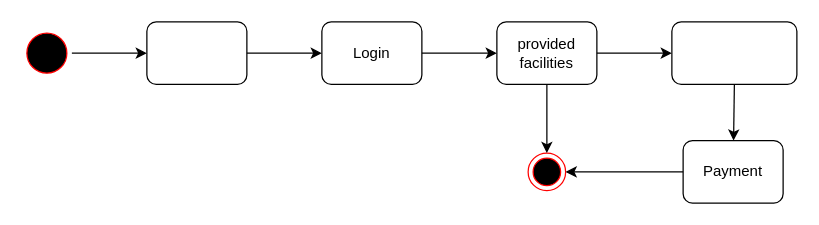
The diagram is 819 pixels wide and 225 high, and some of its shapes have lost their labels. Here are the shapes that lost their labels. From the top down, the centre of each, then its label:
At [196,52]: "Idle".
At [734,52]: "Book Services".
